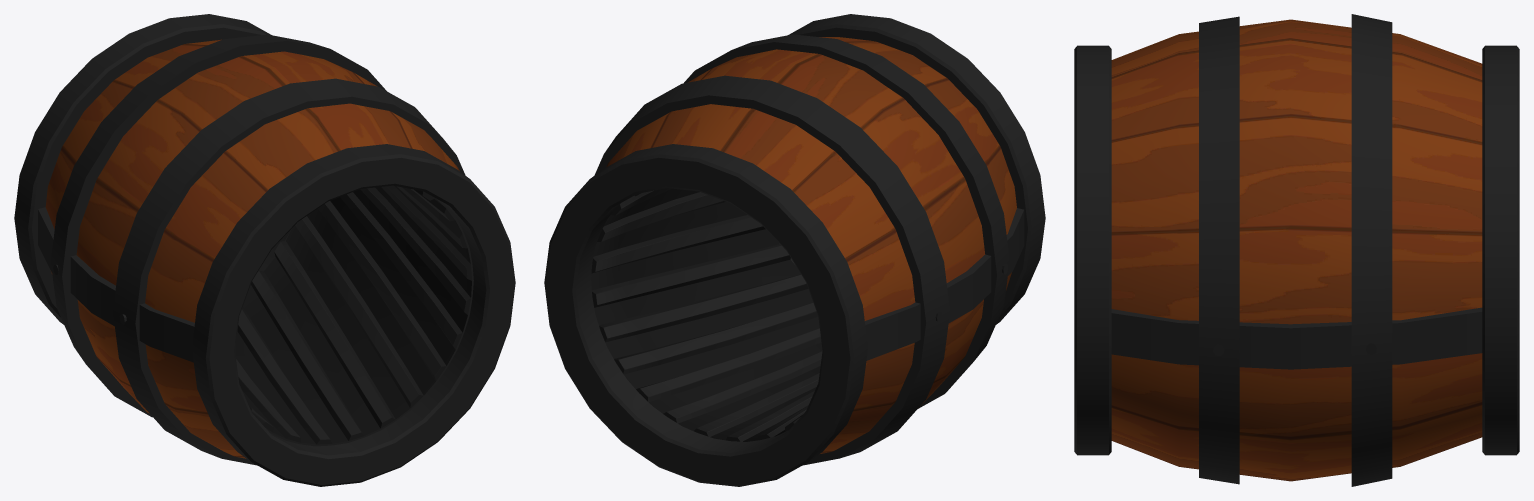
Rendered from CannonBarrel_Prefab.fbx.
3 views of the same model, side by side, from view 1: azimuth 30°, elevation 25°; view 2: azimuth 150°, elevation 25°; view 3: azimuth 270°, elevation 25° (orthographic). The views are drawn at different scales.
Parts seen in each view (by area): view 1: CannonBarrel; view 2: CannonBarrel; view 3: CannonBarrel.
Part boxes in pixels (x1=…): CannonBarrel: x1=14, y1=14, x2=515, y2=486; CannonBarrel: x1=544, y1=14, x2=1045, y2=486; CannonBarrel: x1=1074, y1=14, x2=1519, y2=486.
Size of what is drawn, in the model's own units: 37.53 by 37.53 by 35.2.
Materials: 1 (1 with a texture image).
